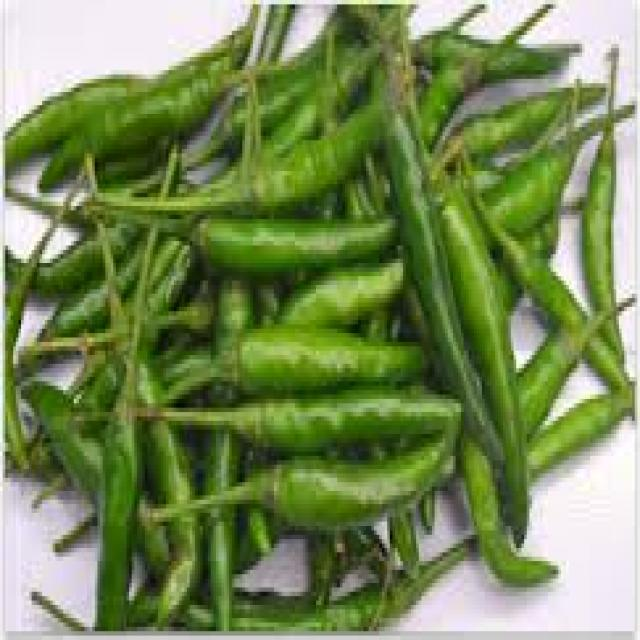green chilli: (382, 89, 510, 462), (440, 175, 528, 542), (272, 404, 464, 531), (237, 331, 428, 393), (194, 217, 399, 271)
